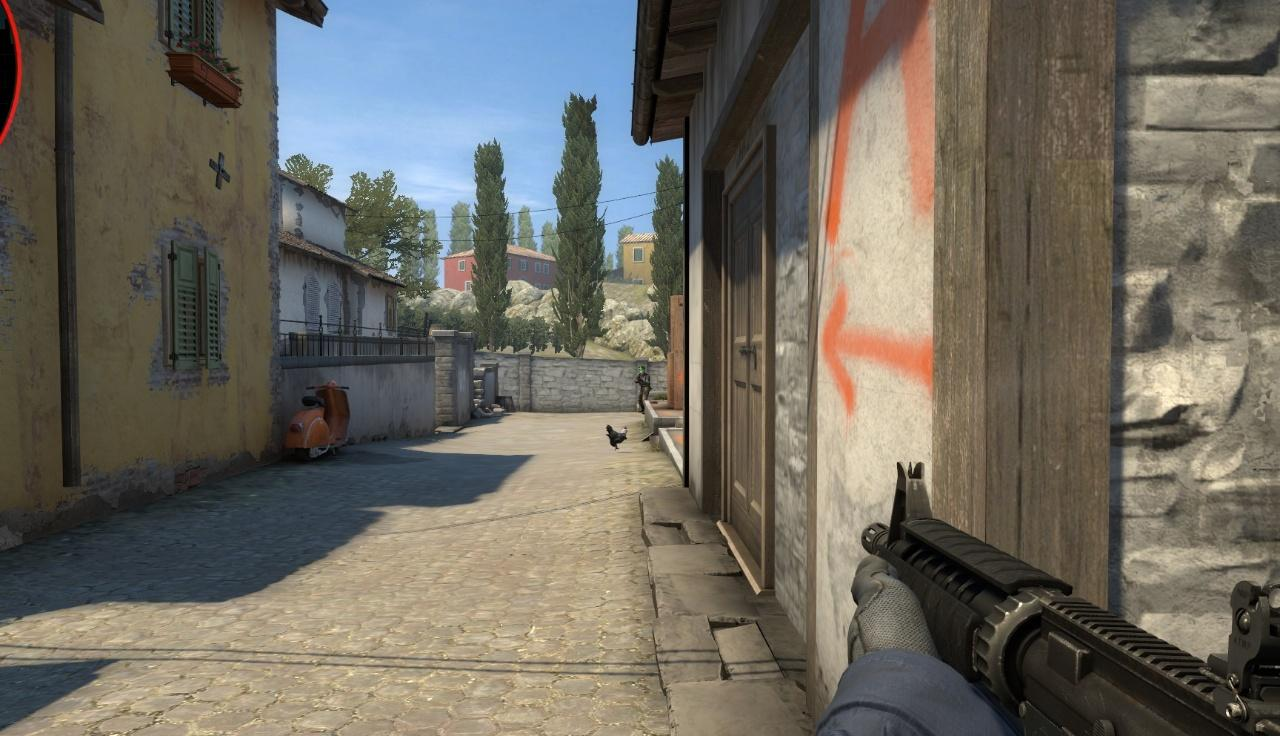rifle: (855, 456, 1280, 736)
tt: (637, 366, 649, 401)
